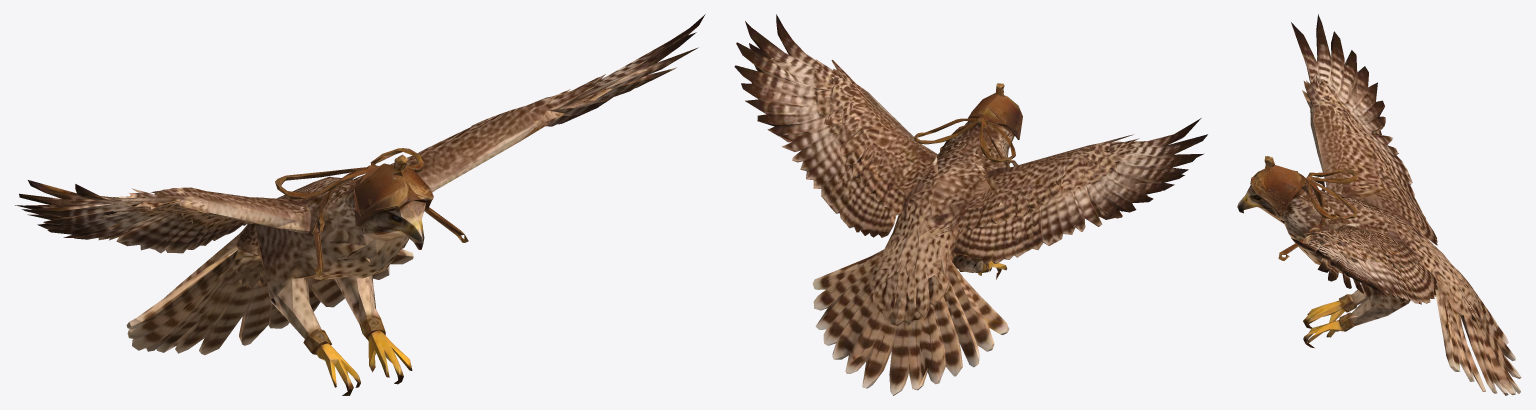
Rendered from falcon.glb.
3 renders of one model, left to right at view 1: azimuth 30°, elevation 25°; view 2: azimuth 150°, elevation 25°; view 3: azimuth 270°, elevation 25°, orthographic. The views are drawn at different scales.
Size of the model in its own units: 1.9 by 0.9628 by 0.9677.
Materials: 1 (1 with a texture image).
